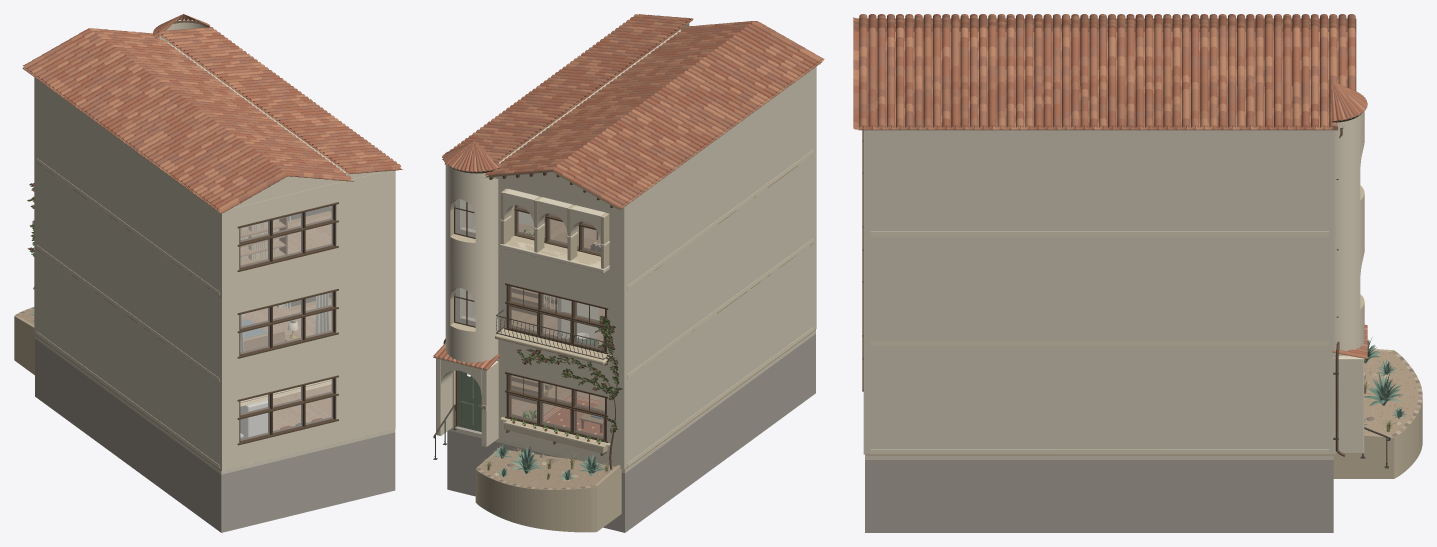
The model's file is terrace.glb.
The picture shows the model from 3 angles, left to right: view 1: azimuth 30°, elevation 25°; view 2: azimuth 150°, elevation 25°; view 3: azimuth 270°, elevation 25°; orthographic projection. The views are drawn at different scales.
Parts seen in each view (by area): view 1: foundation - cast-stone@b9b2a7, ground-storey - lime-plaster@e3dbc6, bedroom-storey - lime-plaster@e3dbc6, workroom-storey - lime-plaster@e3dbc6, workroom-storey - painted-stucco@eadfc8, ground-storey - painted-stucco@eadfc8, bedroom-storey - painted-stucco@eadfc8, terrace-roof - fired-clay@bf8769, terrace-roof - fired-clay@ab7056, terrace-roof - fired-clay@b37c60, terrace-roof - fired-clay@a96e56, terrace-roof - fired-clay@a7745e (+21 smaller); view 2: ground-storey - lime-plaster@e3dbc6, bedroom-storey - lime-plaster@e3dbc6, workroom-storey - lime-plaster@e3dbc6, foundation - cast-stone@b9b2a7, rounded-stair-bay - painted-stucco@eadfc8, terrace-roof - fired-clay@bf8769, terrace-roof - fired-clay@ab7056, terrace-roof - fired-clay@b37c60, terrace-roof - fired-clay@a96e56, terrace-roof - fired-clay@a7745e, terrace-roof - fired-clay@b07b62, front-dry-garden - float-finish-stucco@d5c6aa (+33 smaller); view 3: ground-storey - lime-plaster@e3dbc6, bedroom-storey - lime-plaster@e3dbc6, workroom-storey - lime-plaster@e3dbc6, foundation - cast-stone@b9b2a7, terrace-roof - fired-clay@ab7056, terrace-roof - fired-clay@bf8769, terrace-roof - fired-clay@a7745e, terrace-roof - fired-clay@a96e56, terrace-roof - fired-clay@b37c60, terrace-roof - fired-clay@b07b62, rounded-stair-bay - painted-stucco@eadfc8, front-dry-garden - float-finish-stucco@d5c6aa (+6 smaller).
Boxes of the visible parts, <box> form: foundation - cast-stone@b9b2a7: <box>35,338,395,532</box>; ground-storey - lime-plaster@e3dbc6: <box>35,248,395,474</box>; bedroom-storey - lime-plaster@e3dbc6: <box>35,161,331,385</box>; workroom-storey - lime-plaster@e3dbc6: <box>35,42,331,300</box>; workroom-storey - painted-stucco@eadfc8: <box>34,77,395,297</box>; ground-storey - painted-stucco@eadfc8: <box>34,247,395,470</box>; bedroom-storey - painted-stucco@eadfc8: <box>34,160,395,384</box>; terrace-roof - fired-clay@bf8769: <box>30,27,377,213</box>; terrace-roof - fired-clay@ab7056: <box>51,29,388,208</box>; terrace-roof - fired-clay@b37c60: <box>32,28,402,200</box>; terrace-roof - fired-clay@a96e56: <box>43,28,397,210</box>; terrace-roof - fired-clay@a7745e: <box>26,29,385,202</box>; ground-storey - lime-plaster@e3dbc6: <box>449,241,815,473</box>; bedroom-storey - lime-plaster@e3dbc6: <box>460,152,815,380</box>; workroom-storey - lime-plaster@e3dbc6: <box>460,30,815,291</box>; foundation - cast-stone@b9b2a7: <box>447,334,815,532</box>; rounded-stair-bay - painted-stucco@eadfc8: <box>445,163,498,363</box>; terrace-roof - fired-clay@bf8769: <box>472,22,824,202</box>; terrace-roof - fired-clay@ab7056: <box>464,17,816,188</box>; terrace-roof - fired-clay@b37c60: <box>457,14,805,202</box>; terrace-roof - fired-clay@a96e56: <box>450,14,820,194</box>; terrace-roof - fired-clay@a7745e: <box>474,15,804,205</box>; terrace-roof - fired-clay@b07b62: <box>442,16,812,207</box>; front-dry-garden - float-finish-stucco@d5c6aa: <box>475,466,621,532</box>; ground-storey - lime-plaster@e3dbc6: <box>865,345,1333,459</box>; bedroom-storey - lime-plaster@e3dbc6: <box>865,237,1333,350</box>; workroom-storey - lime-plaster@e3dbc6: <box>865,130,1333,241</box>; foundation - cast-stone@b9b2a7: <box>865,460,1333,532</box>; terrace-roof - fired-clay@ab7056: <box>853,14,1355,129</box>; terrace-roof - fired-clay@bf8769: <box>853,14,1355,129</box>; terrace-roof - fired-clay@a7745e: <box>853,14,1355,129</box>; terrace-roof - fired-clay@a96e56: <box>853,14,1355,129</box>; terrace-roof - fired-clay@b37c60: <box>853,14,1355,129</box>; terrace-roof - fired-clay@b07b62: <box>853,14,1355,129</box>; rounded-stair-bay - painted-stucco@eadfc8: <box>1333,111,1364,356</box>; front-dry-garden - float-finish-stucco@d5c6aa: <box>1333,350,1422,478</box>.
Bounding box in the file's own units: 7.3 × 13.37 × 15.79.
